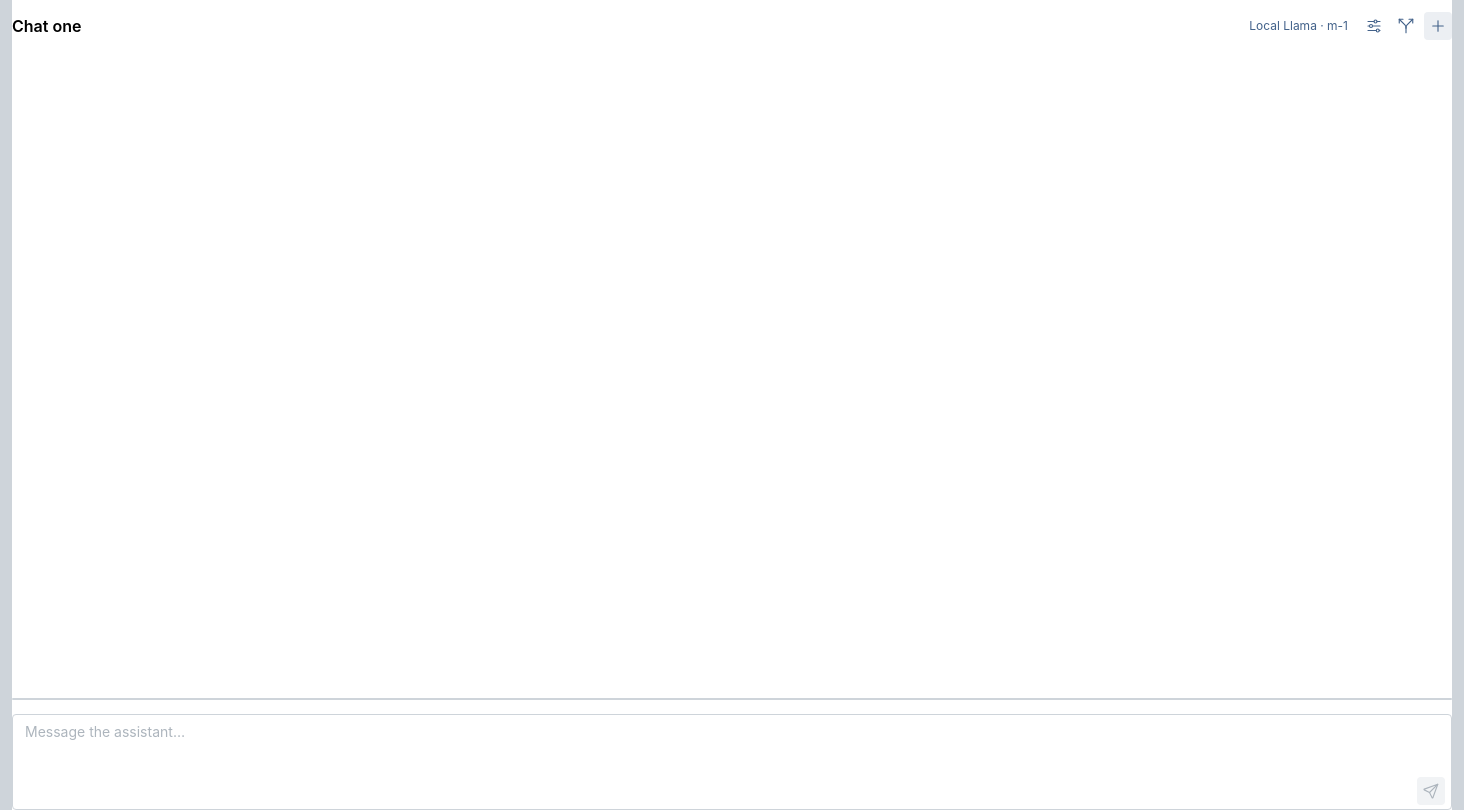
Test: one click opens a ready, focused model dropdown (009 DoD-1) › 009 DoD-1: a single click on the header model button renders the option list already — and focuses the search field
The width and height of the screenshot is (1464, 810).
Click the button with aria-label "Model" at (1299, 26), box [1241,15,1356,37]
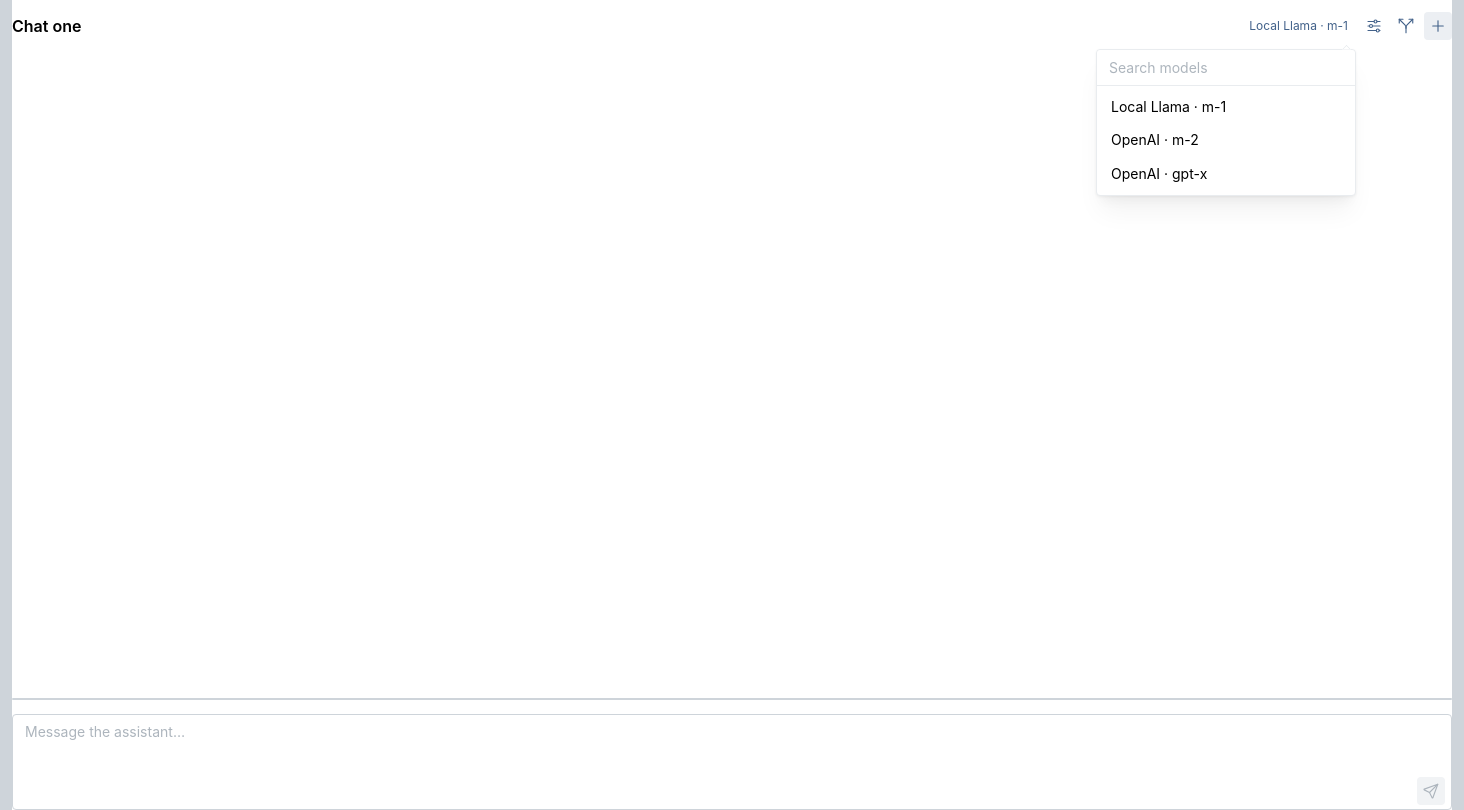
Expected: the field with placeholder "Search models" is shown, [1097,50,1355,86]
